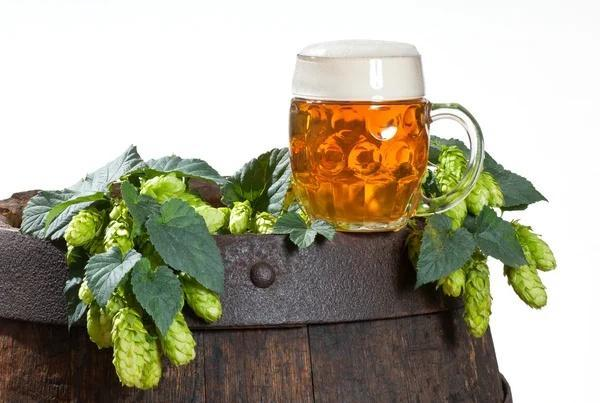glass-mug: (285, 37, 487, 237)
